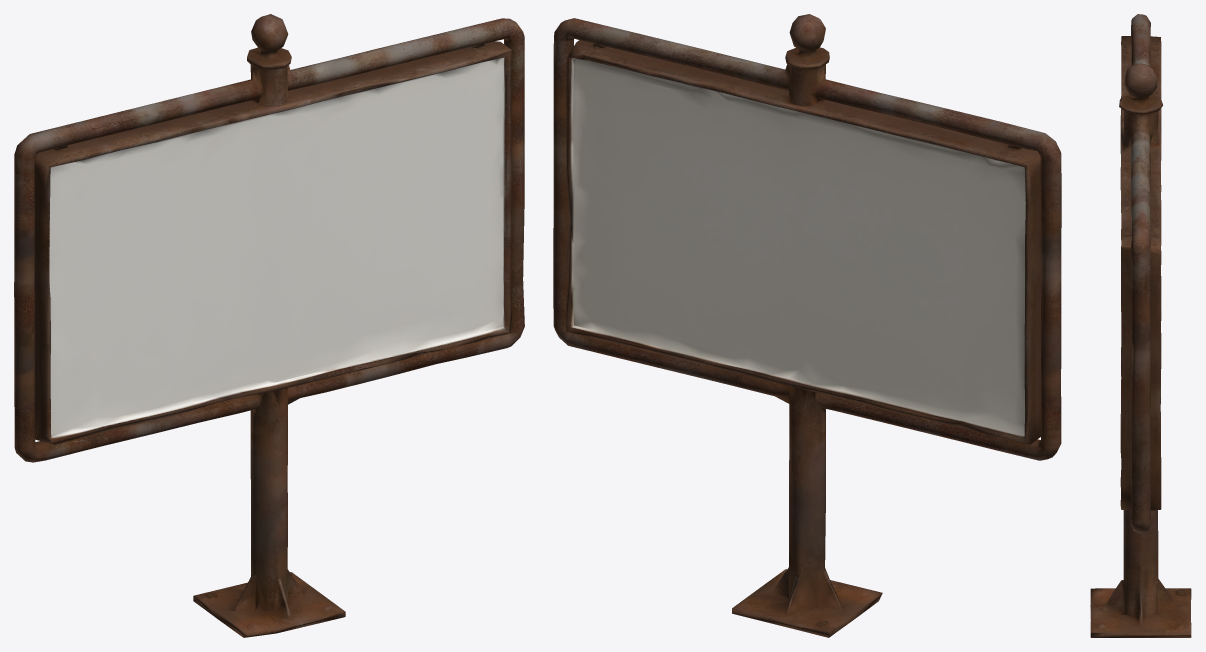
Rendered from banner3.glb.
The picture shows the model from 3 angles, left to right: view 1: azimuth 30°, elevation 25°; view 2: azimuth 150°, elevation 25°; view 3: azimuth 270°, elevation 25°; orthographic projection. The views are drawn at different scales.
Parts seen in each view (by area): view 1: tripo_node_d08cb0e4-c24b-49ca-a7aa-a65cb9224259; view 2: tripo_node_d08cb0e4-c24b-49ca-a7aa-a65cb9224259; view 3: tripo_node_d08cb0e4-c24b-49ca-a7aa-a65cb9224259.
Part boxes in pixels (x1,y1,x2,y2): tripo_node_d08cb0e4-c24b-49ca-a7aa-a65cb9224259: [14, 14, 524, 637]; tripo_node_d08cb0e4-c24b-49ca-a7aa-a65cb9224259: [553, 14, 1061, 637]; tripo_node_d08cb0e4-c24b-49ca-a7aa-a65cb9224259: [1090, 14, 1191, 637].
Size of the model in its own units: 0.8948 by 1 by 0.1659.
Materials: 1 (1 with a texture image).
